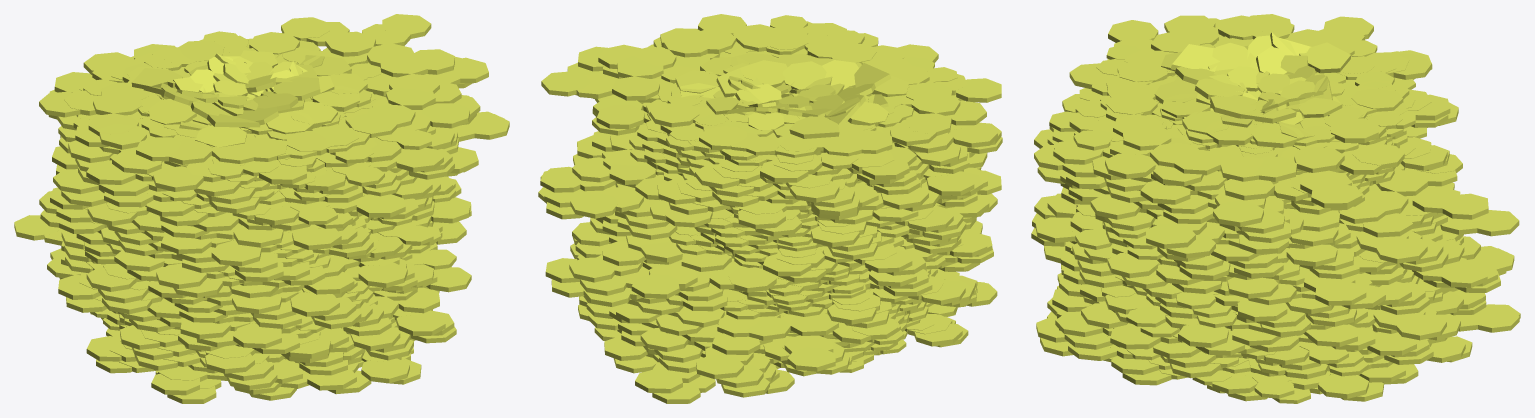
Rendered from enviro money big.fbx.
3 views of the same model, side by side, from view 1: azimuth 30°, elevation 25°; view 2: azimuth 150°, elevation 25°; view 3: azimuth 270°, elevation 25° (orthographic). The views are drawn at different scales.
Parts seen in each view (by area): view 1: Cylinder.051; view 2: Cylinder.051; view 3: Cylinder.051.
Part boxes in pixels (x1,y1,x2,y2): Cylinder.051: (14, 14, 509, 403); Cylinder.051: (538, 14, 1002, 403); Cylinder.051: (1031, 14, 1520, 403).
Size of the model in its own units: 189 by 107 by 189.
